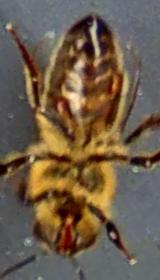varroa_mite: (46, 95, 76, 126), (106, 65, 122, 112)
